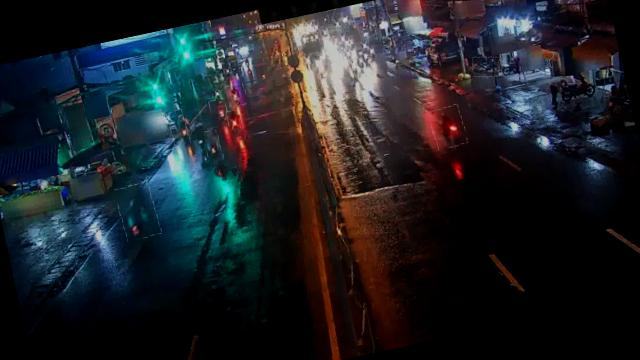Bike: (114, 180, 160, 241), (551, 70, 600, 108), (428, 105, 468, 150), (168, 109, 190, 146), (471, 53, 502, 79), (208, 98, 230, 130), (202, 130, 223, 162), (225, 82, 248, 107), (192, 122, 208, 150), (226, 109, 244, 132)
